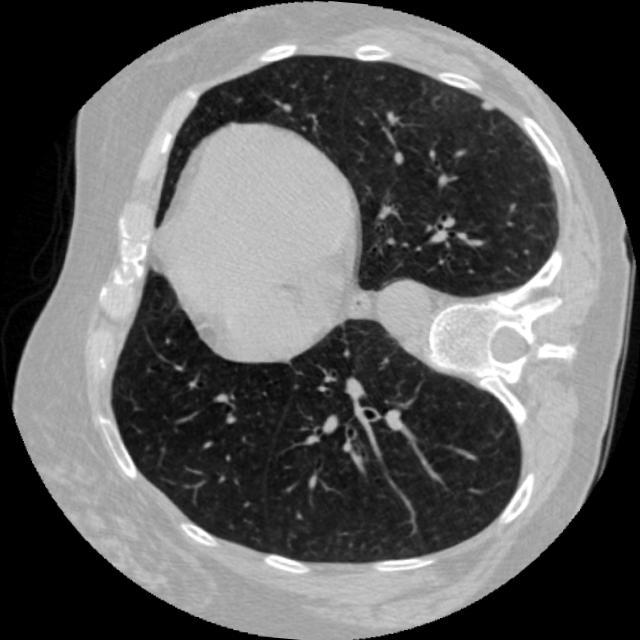nodule: (473, 96, 497, 120)
